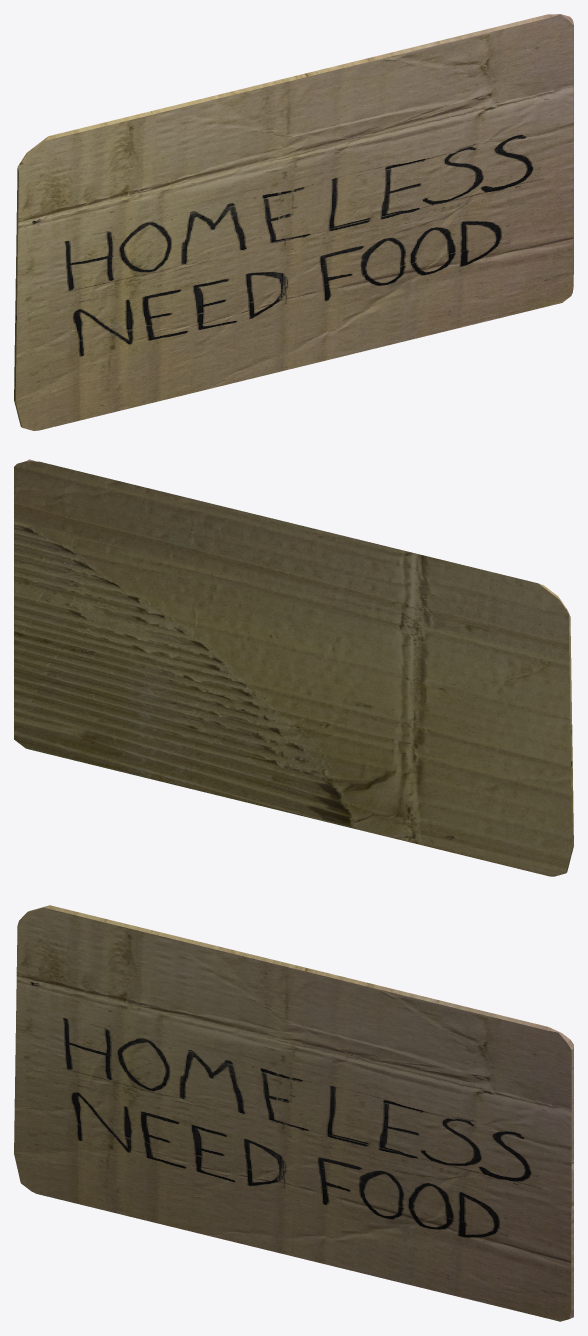
The model's file is Homeless_Sign_2.fbx.
3 renders of one model, top to bottom at view 1: azimuth 30°, elevation 25°; view 2: azimuth 150°, elevation 25°; view 3: azimuth 330°, elevation 25°, orthographic.
Visible parts, largest first — view 1: Plane; view 2: Plane; view 3: Plane.
Boxes of the visible parts, <box> form: Plane: <box>14,14,573,430</box>; Plane: <box>14,459,573,876</box>; Plane: <box>14,905,573,1321</box>.
Bounding box in the file's own units: 201 × 100 × 1.
